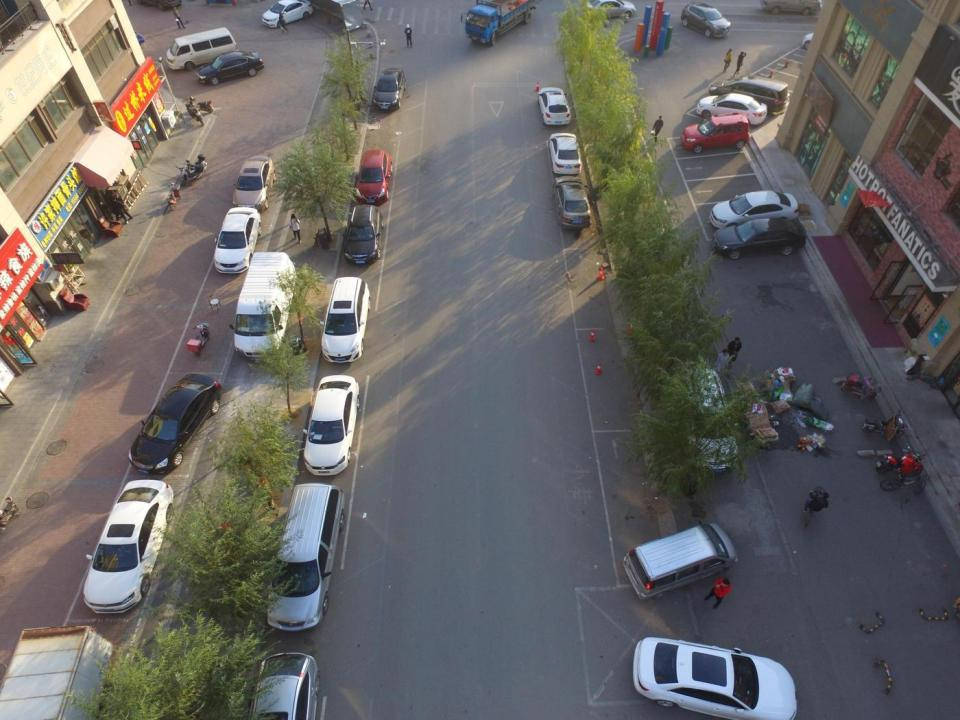car: (630, 634, 798, 720), (82, 478, 174, 616), (265, 481, 346, 633), (126, 372, 222, 476), (674, 362, 739, 475), (300, 373, 362, 478), (242, 650, 321, 720), (318, 275, 372, 365), (710, 216, 807, 260), (709, 188, 800, 232), (213, 206, 262, 274), (679, 112, 751, 155), (342, 203, 385, 266), (696, 91, 768, 128), (231, 154, 276, 213), (194, 50, 265, 86), (552, 173, 592, 231), (352, 149, 393, 205), (680, 1, 732, 39), (371, 67, 407, 111), (547, 132, 582, 176), (262, 0, 314, 29), (536, 86, 571, 126), (579, 0, 638, 21), (801, 26, 841, 51)
truck: (1, 624, 114, 720), (460, 0, 543, 47)
van: (620, 521, 738, 602), (228, 250, 297, 362), (708, 74, 790, 115), (165, 26, 238, 71)
